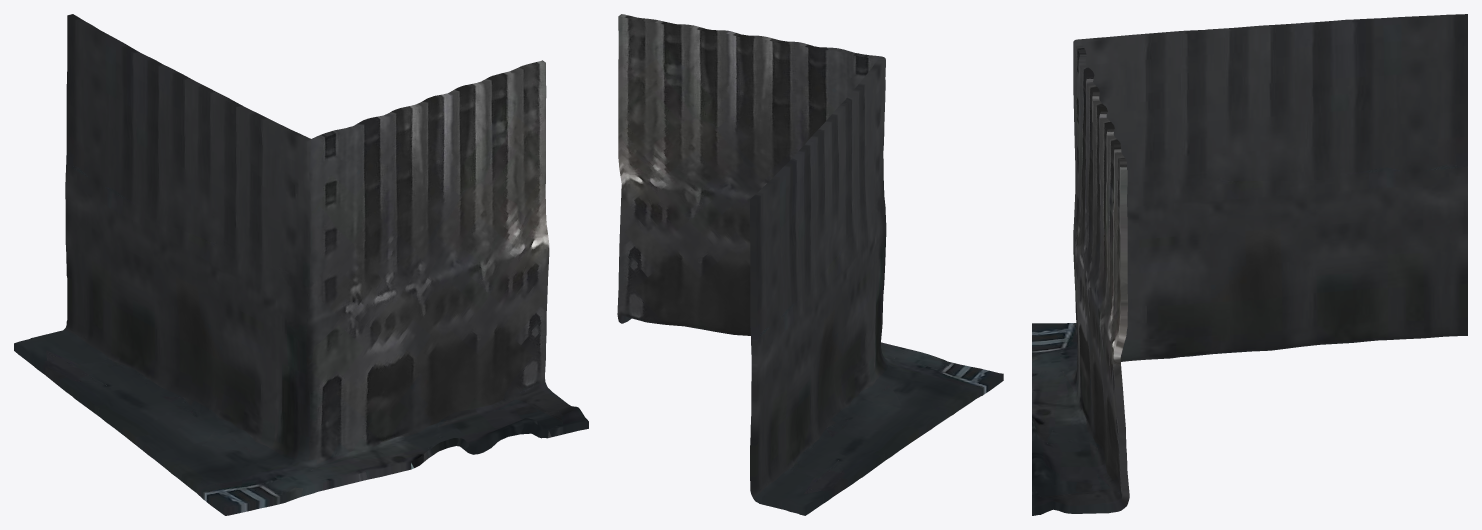
The model's file is z20-167772-405235-h0-yup-uvflip-v3-world.glb.
3 renders of one model, left to right at view 1: azimuth 30°, elevation 25°; view 2: azimuth 150°, elevation 25°; view 3: azimuth 270°, elevation 25°, orthographic. The views are drawn at different scales.
Bounding box in the file's own units: 30.16 × 26.52 × 30.32.
Materials: 1 (1 with a texture image).
